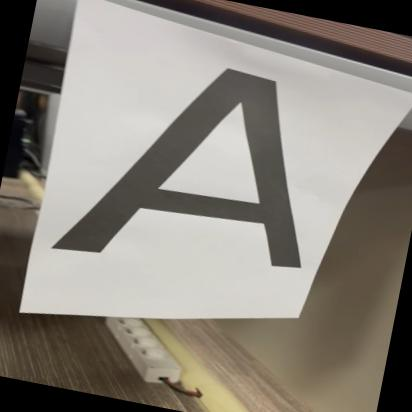seat: (46, 26, 348, 304)
